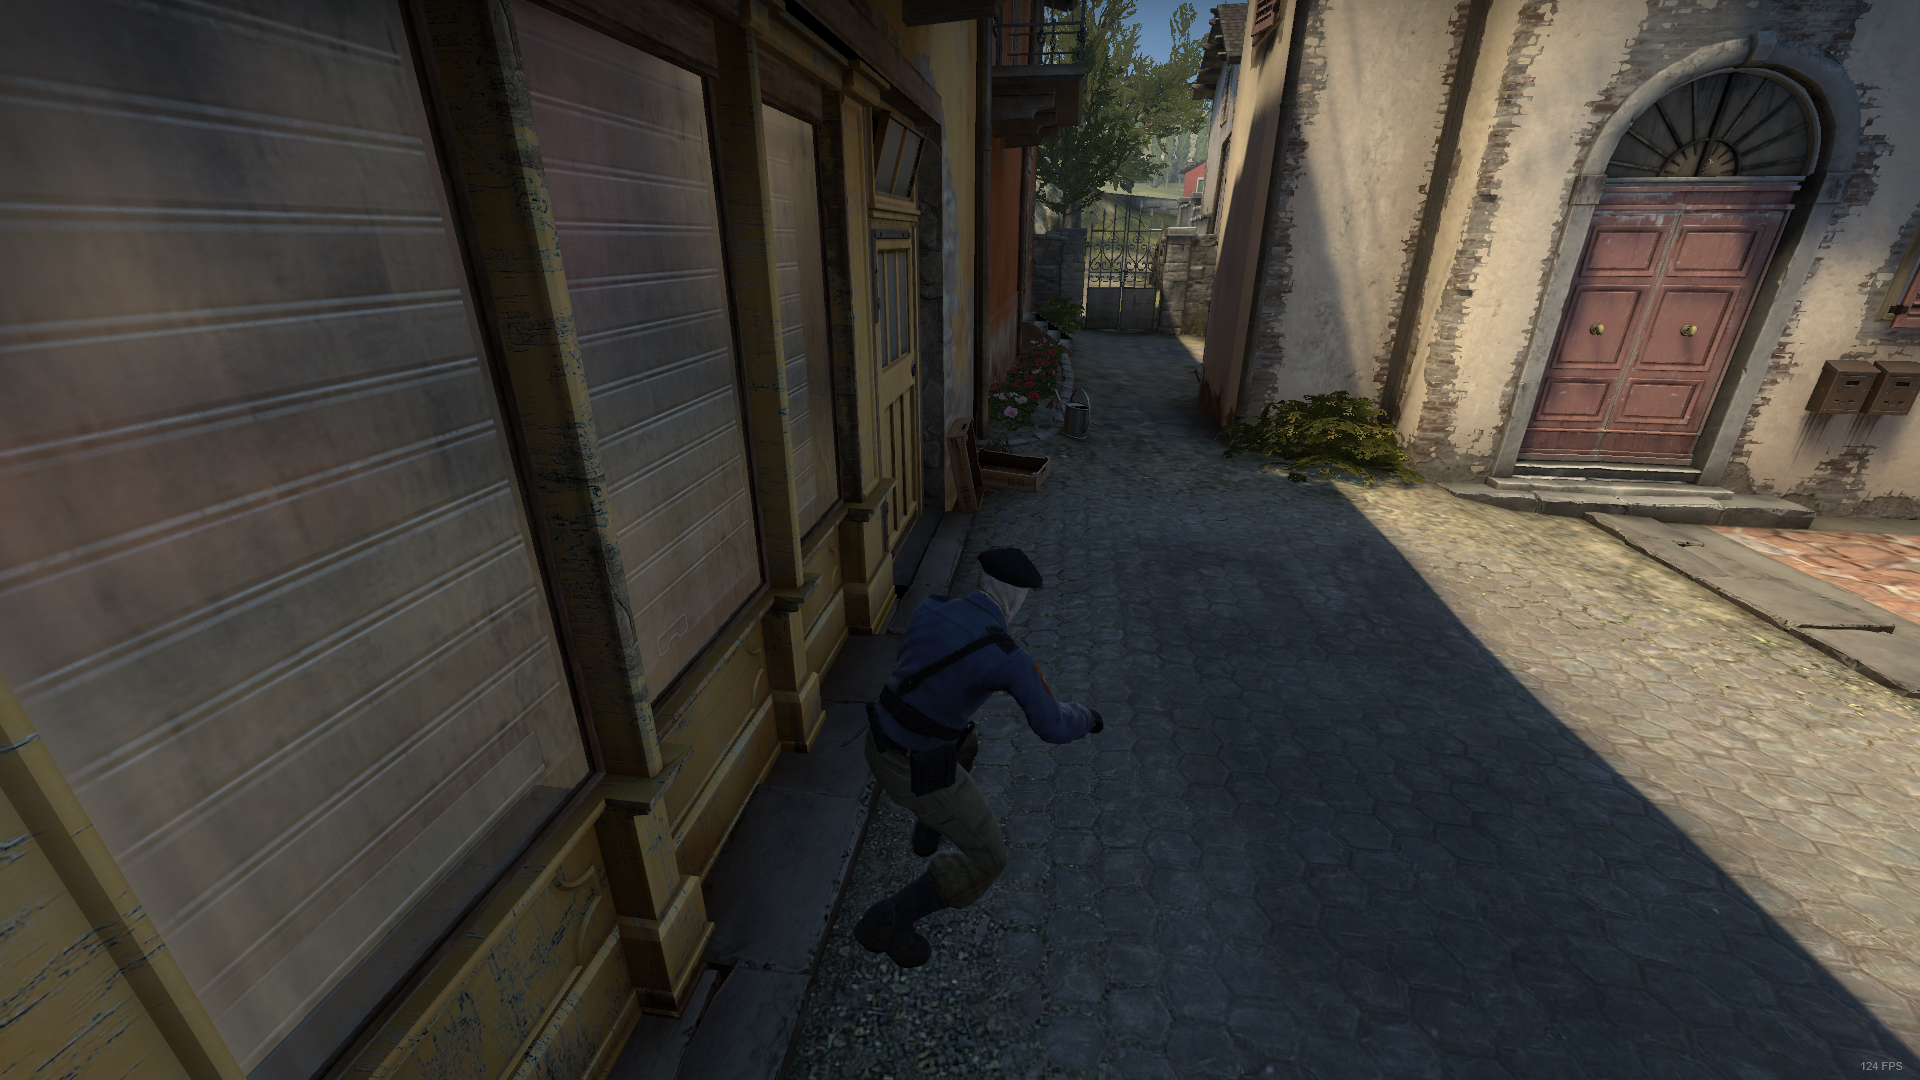t: (827, 545, 1108, 980)
